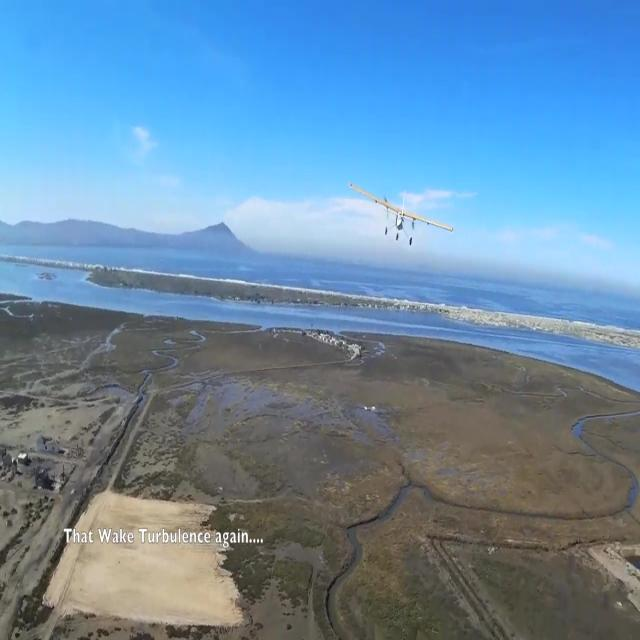iha: (380, 212, 422, 216)
